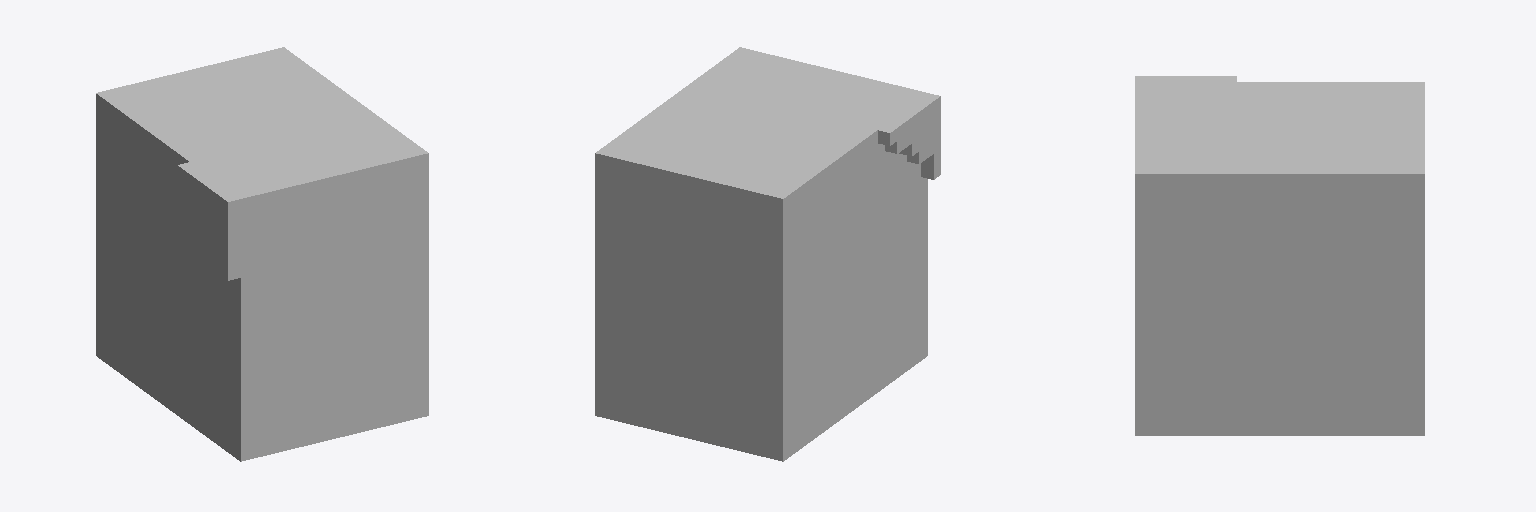
Rendered from sueloPlataform-0 1.obj.
The picture shows the model from 3 angles: view 1: azimuth 30°, elevation 25°; view 2: azimuth 150°, elevation 25°; view 3: azimuth 270°, elevation 25°; orthographic projection.
Visible parts, largest first — view 1: object 1; view 2: object 1; view 3: object 1.
Boxes of the visible parts, <box> form: object 1: <box>96,47,428,461</box>; object 1: <box>595,47,940,461</box>; object 1: <box>1135,76,1424,435</box>.
Size of the model in its own units: 1.6 by 2 by 2.